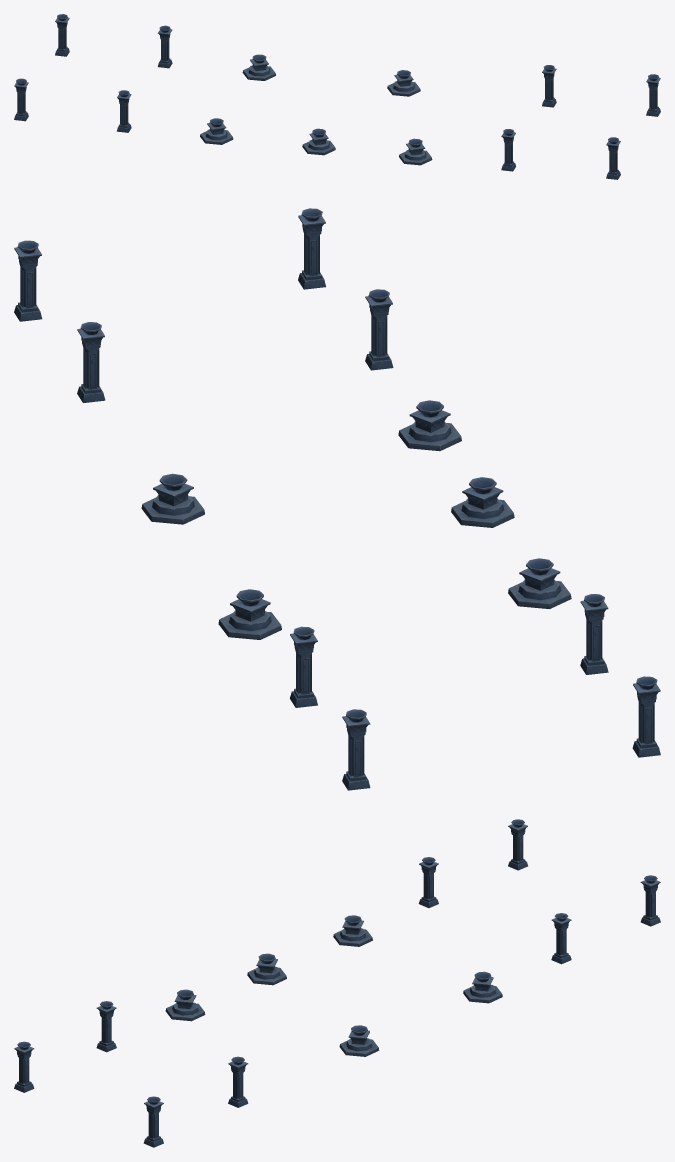
The model's file is wujian51.fbx.
3 renders of one model, top to bottom at view 1: azimuth 30°, elevation 25°; view 2: azimuth 150°, elevation 25°; view 3: azimuth 270°, elevation 25°, orthographic. The views are drawn at different scales.
Visible parts, largest first — view 1: wujian51; view 2: wujian51; view 3: wujian51.
Part boxes in pixels (bbox=[...]): wujian51: bbox=[14, 14, 660, 179]; wujian51: bbox=[14, 208, 660, 790]; wujian51: bbox=[14, 819, 660, 1147].
Size of the model in its own units: 3600 by 260 by 3444.
1 material, 1 textured.
